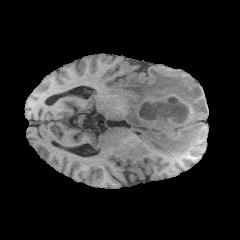glioma: (122, 67, 208, 156)
